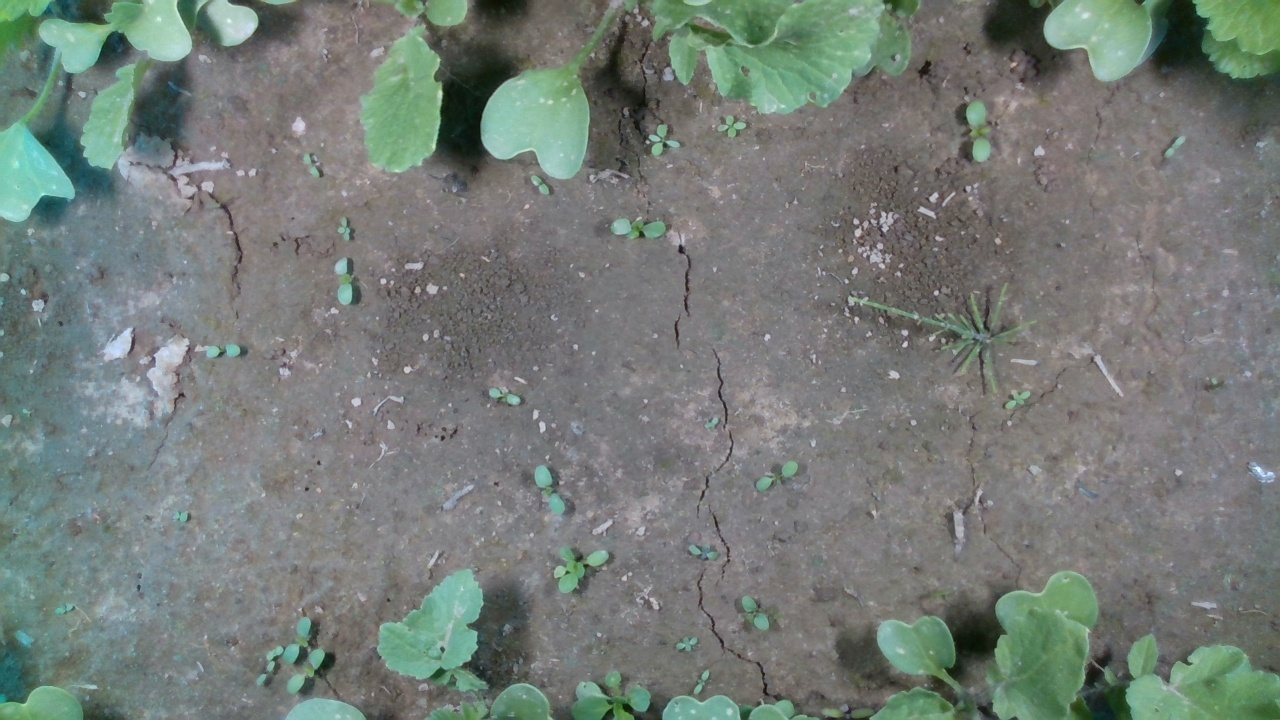weed: (964, 99, 991, 165), (533, 463, 566, 517), (607, 214, 666, 240), (755, 459, 799, 492), (647, 122, 681, 156), (332, 255, 354, 306), (740, 595, 770, 632), (715, 111, 747, 137), (203, 341, 242, 360), (1162, 133, 1187, 161), (487, 386, 522, 406), (687, 541, 719, 561), (1003, 389, 1030, 411), (302, 151, 321, 180), (256, 659, 274, 686), (529, 175, 550, 197), (693, 668, 710, 695), (336, 215, 352, 242), (674, 634, 698, 652), (265, 644, 283, 659), (54, 602, 74, 615), (170, 510, 188, 524)
